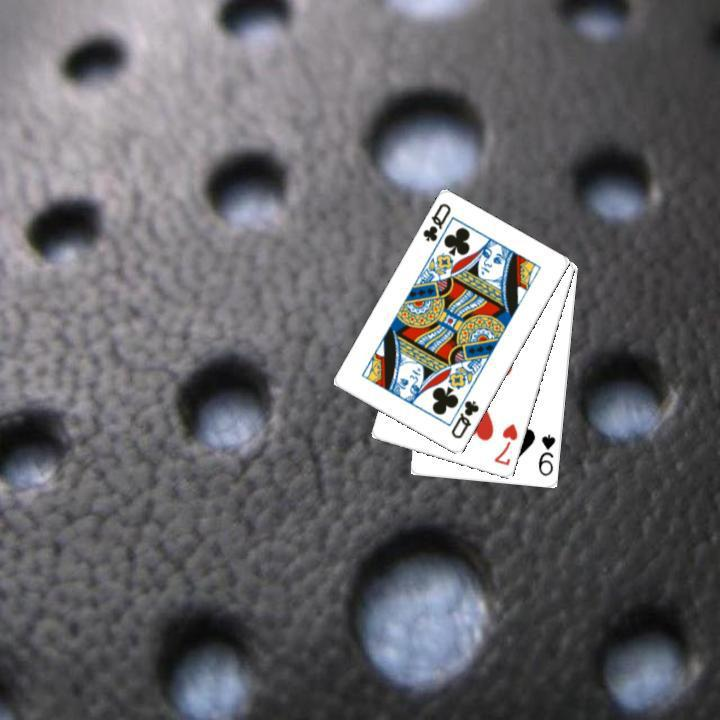7: (490, 419, 520, 468)
9: (534, 430, 558, 478)
Q: (418, 199, 453, 244), (447, 396, 481, 441)
